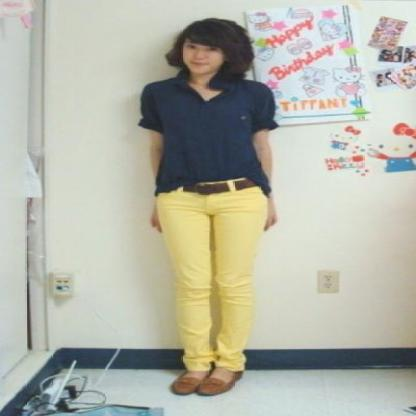pants: (152, 178, 273, 372)
shirt: (138, 77, 279, 195)
shoe: (170, 370, 242, 396)
